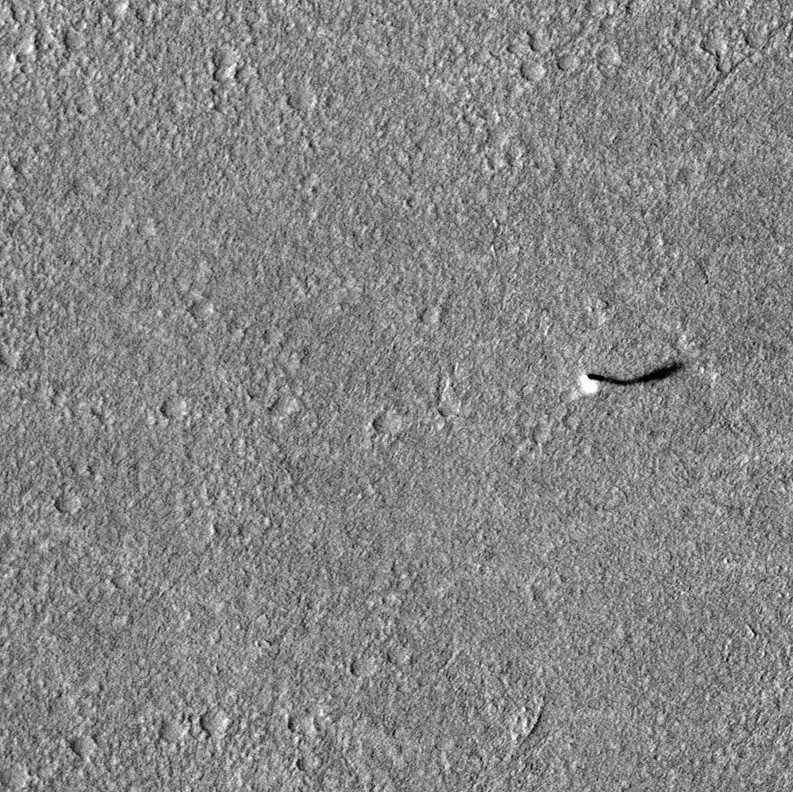dust_devil: (577, 360, 688, 397)
